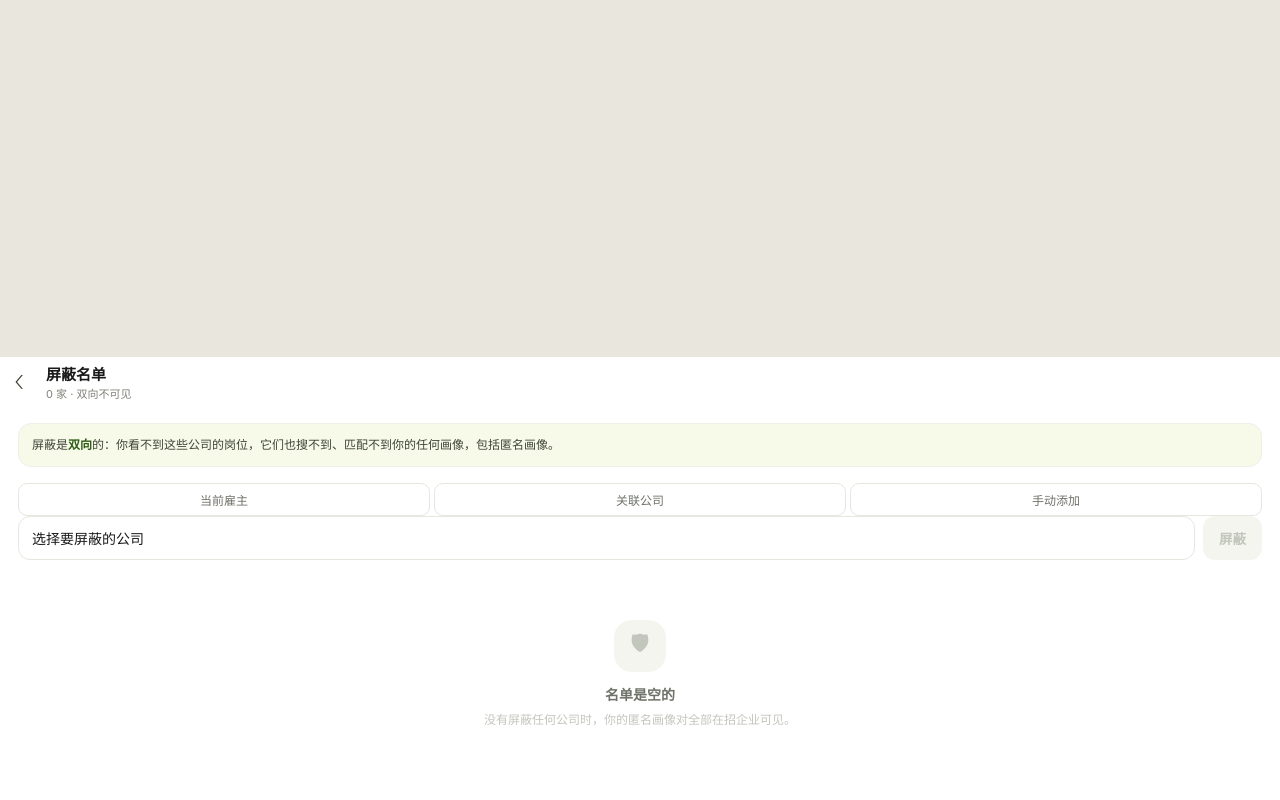
Test: 屏蔽名单 · Backend 公司选择抽屉写线 › 未选来源/未选企业时「屏蔽」禁用；两者都有值才启用
(page scrolled)
Expected: the button "屏蔽" is disabled, [1203,516,1262,560]
Click the button "选择要屏蔽的公司": (88, 538) [18,516,1195,560]
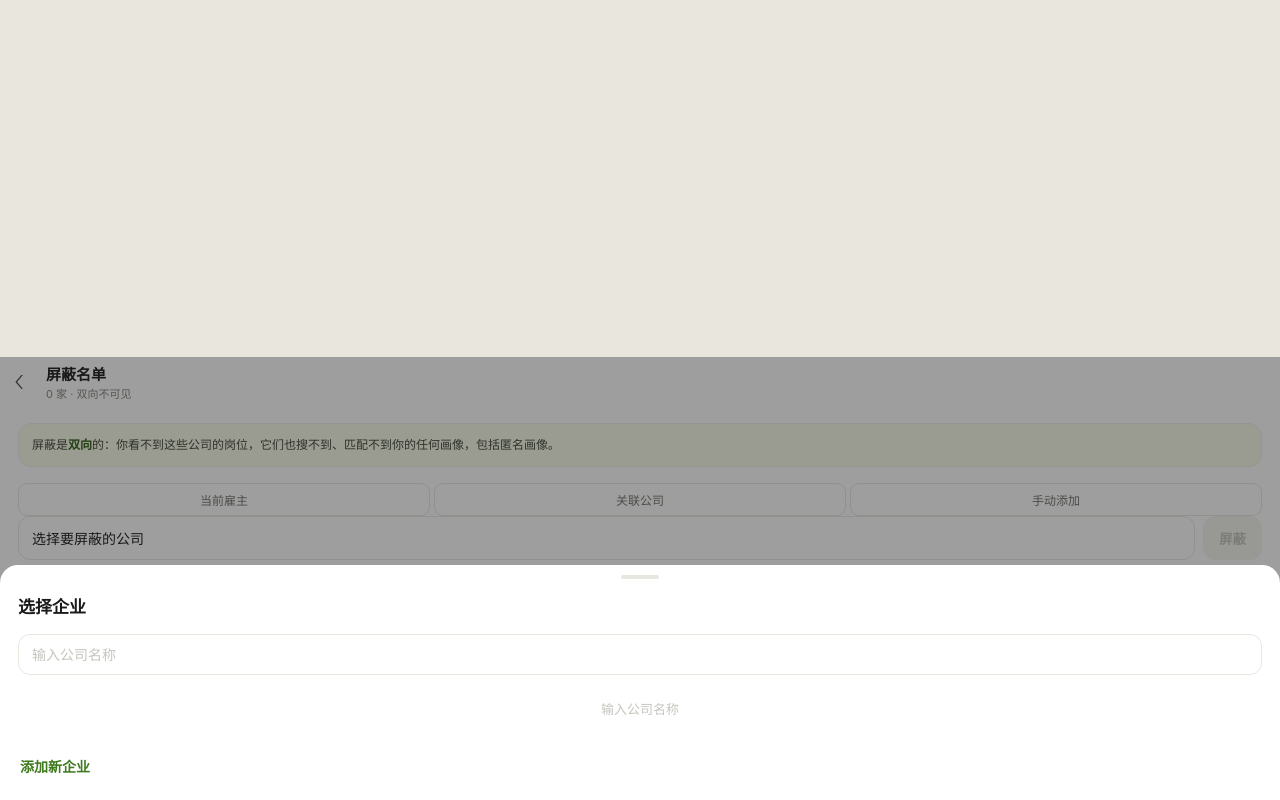
In the field with placeholder "输入公司名称": (640, 654) [18,634,1262,675], type "云衢"
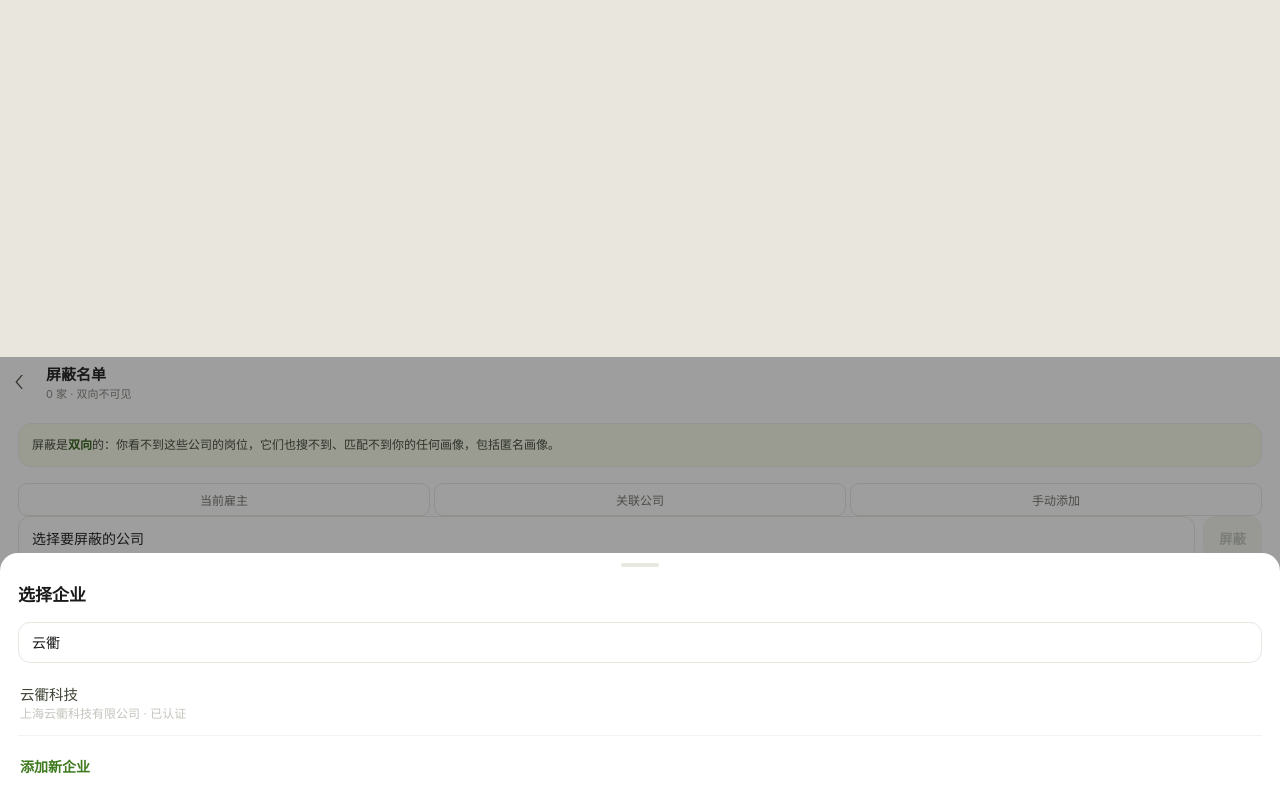
Click the button "云衢科技 上海云衢科技有限公司 · 已认证": (49, 694) [18,669,1262,736]
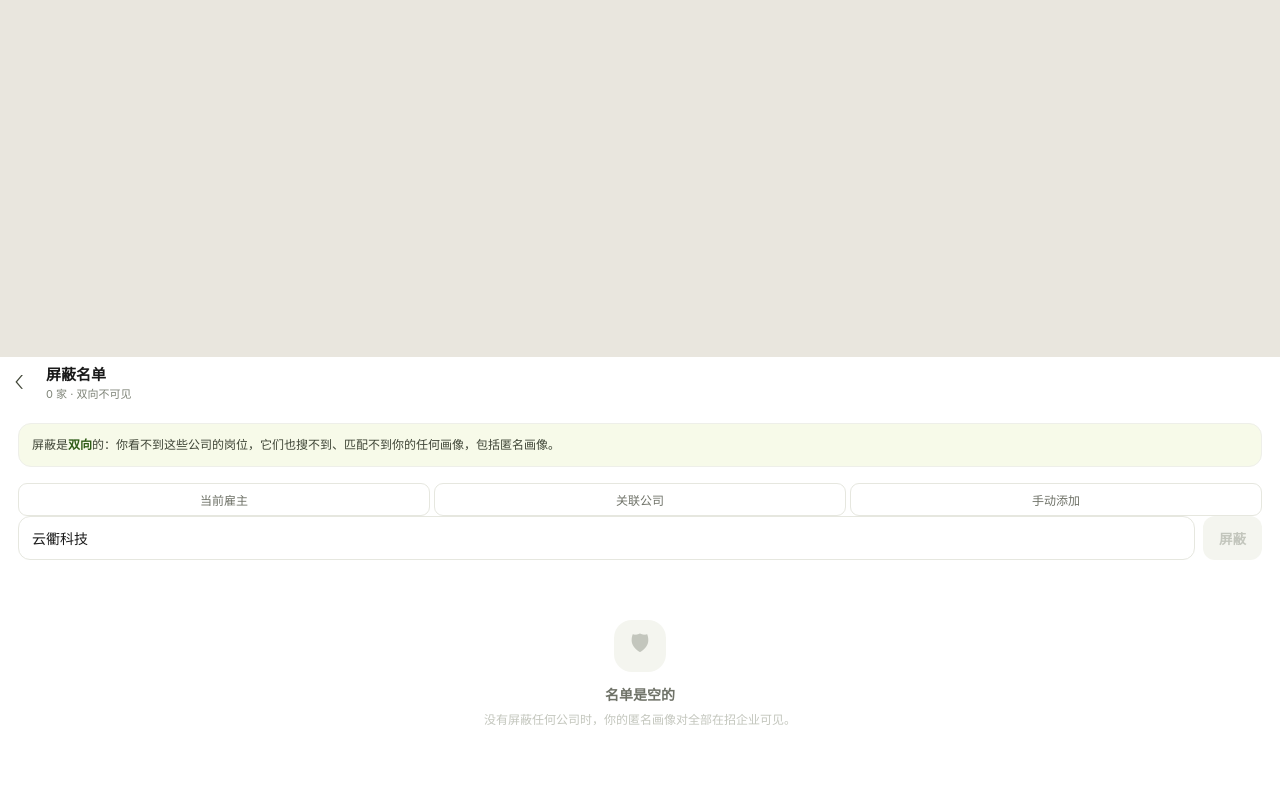
Expected: the button "屏蔽" is disabled, [1203,516,1262,560]
Click the button "手动添加": (1056, 499) [850,483,1262,516]
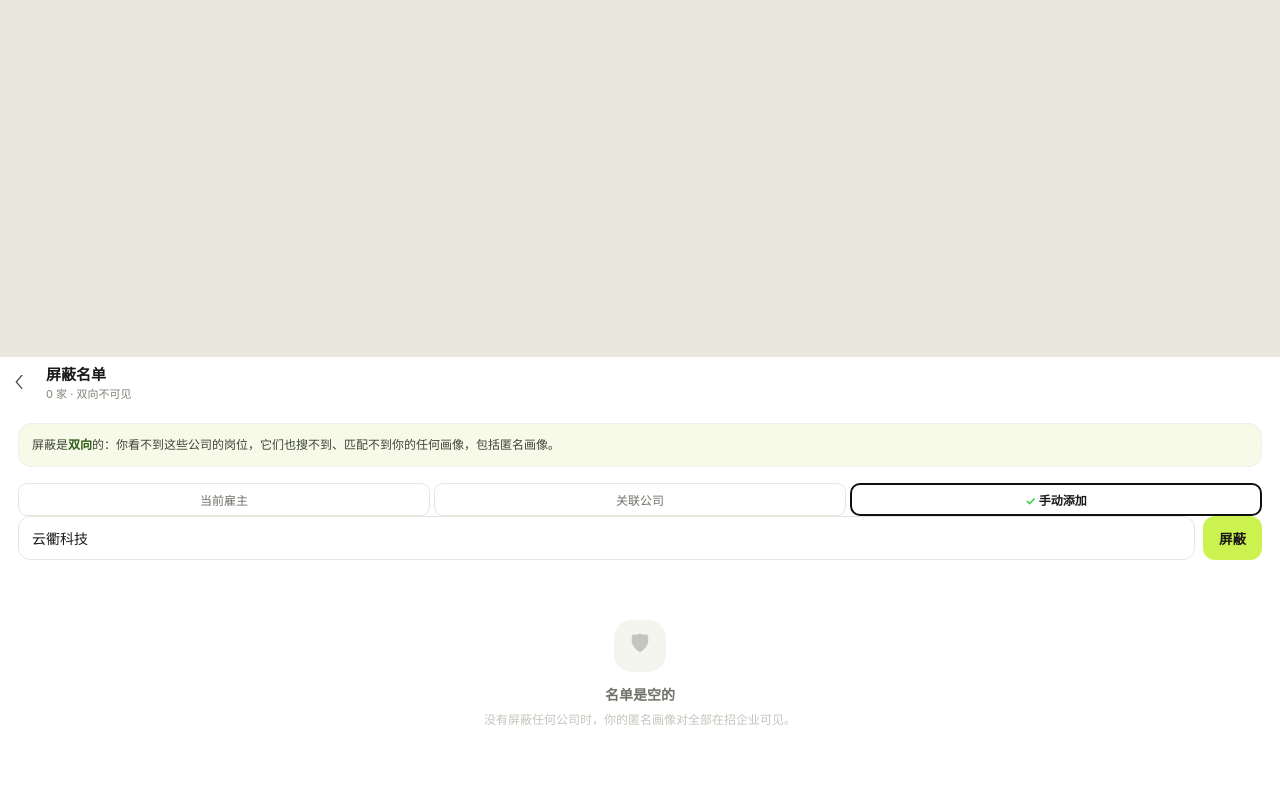
Expected: the button "屏蔽" is enabled, [1203,516,1262,560]
